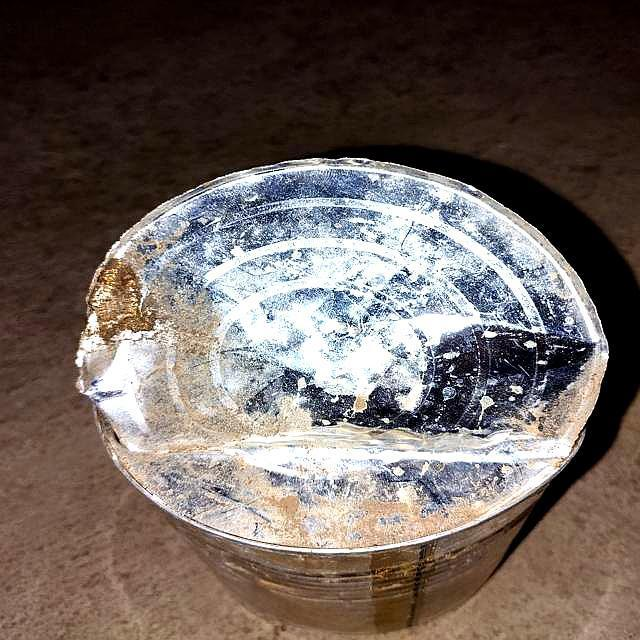Non-biodegradable: (74, 154, 611, 633)
